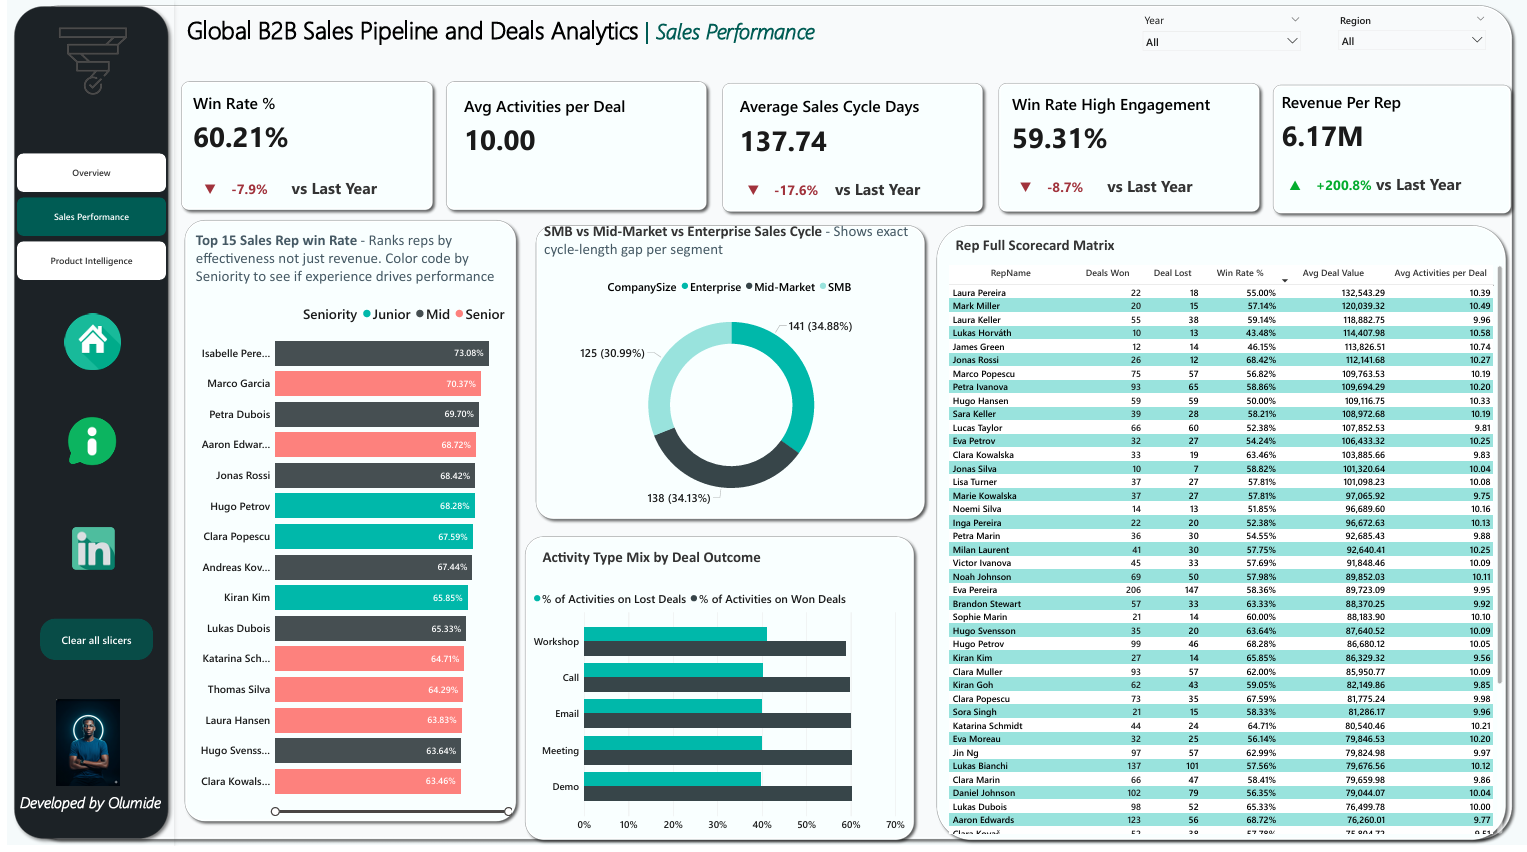

This screenshot's page, from the dashboard's own definition file:
{"tool":"powerbi","page":{"name":"Sales Performance","canvas":[2700,1500],"ordinal":1},"visuals":[{"type":"group","id":"g1","title":"Group 1","box":[0,0,2680,1500],"z":0},{"type":"shape","box":[25.2,0,2654.4,1500],"z":0,"group":"g1"},{"type":"shape","box":[0,0,297.2,1500],"z":1000,"group":"g1"},{"type":"shape","box":[297.5,135,466.6,249],"z":1000,"group":"g2"},{"type":"shape","box":[1638,390.2,1031,1110.5],"z":1000},{"type":"shape","box":[303.9,381.4,609.4,1086.4],"z":2000},{"type":"group","id":"g2","title":"Group 2","box":[297.5,135,2380,255],"z":3000},{"type":"textbox","box":[301.1,19.3,1149,89.1],"z":4000},{"type":"cardVisual","fields":{"Data":["FactDeals.3_Win Rate %"]},"box":[312,156,345,127.5],"z":5000},{"type":"cardVisual","fields":{"Data":["FactDeals.3_Win Rate YoY Icon"]},"box":[332,291,95,77.5],"z":6000},{"type":"shape","box":[767.5,135,483.4,249],"z":7000,"group":"g2"},{"type":"cardVisual","fields":{"Data":["FactDeals.3_Win Rate YoY Display"]},"box":[379.5,291,157.5,77.5],"z":7000},{"type":"shape","box":[1257.6,138,483.4,249],"z":8000,"group":"g2"},{"type":"cardVisual","fields":{"Data":["FactDeals.3_Win Rate Label"]},"box":[487,293.5,260,70],"z":8000},{"type":"slicer","fields":{"Values":["DimDate.Year"]},"box":[2004.2,19.3,301.1,89.1],"z":9000},{"type":"shape","box":[1747.7,138,483.4,249],"z":9000,"group":"g2"},{"type":"slicer","fields":{"Values":["DimCompany.Region"]},"box":[2351,19.3,281.8,89.1],"z":10000},{"type":"shape","box":[2234.4,141,443.1,249],"z":10000,"group":"g2"},{"type":"textbox","box":[329.2,406.2,568.4,124.5],"z":11000},{"type":"cardVisual","fields":{"Data":["FactDeals.7_Avg Activities per Deal"]},"box":[792.5,154.2,436,139.7],"z":12000},{"type":"cardVisual","fields":{"Data":["FactDeals.8_Average Sales Cycle Days"]},"box":[1281.5,161.4,414.3,127.7],"z":13000},{"type":"cardVisual","fields":{"Data":["FactDeals.8_Average Sales Cycle Days YoY Icon"]},"box":[1295.5,293,95,77.5],"z":14000},{"type":"cardVisual","fields":{"Data":["FactDeals.8_Average Sales Cycle Days YoY Display"]},"box":[1343,293,157.5,77.5],"z":15000},{"type":"cardVisual","fields":{"Data":["FactDeals.8_Average Sales Cycle Days Label"]},"box":[1450.5,295.5,260,70],"z":16000},{"type":"cardVisual","fields":{"Data":["FactDeals.9_Win Rate High Engagement"]},"box":[1765.3,157.3,414.3,127.7],"z":17000},{"type":"cardVisual","fields":{"Data":["FactDeals.9_Win Rate High Engagement YoY Icon"]},"box":[1779.3,288.9,95,77.5],"z":18000},{"type":"cardVisual","fields":{"Data":["FactDeals.9_Win Rate High Engagement YoY Display"]},"box":[1826.8,288.9,157.5,77.5],"z":19000},{"type":"cardVisual","fields":{"Data":["FactDeals.9_Win Rate High Engagement Label"]},"box":[1934.3,291.4,260,70],"z":20000},{"type":"cardVisual","fields":{"Data":["FactDeals.10_Revenue Per Rep"]},"box":[2243,153.3,414.3,127.7],"z":21000},{"type":"cardVisual","fields":{"Data":["FactDeals.10_Revenue Per Rep YoY Icon"]},"box":[2257,284.9,95,77.5],"z":22000},{"type":"cardVisual","fields":{"Data":["FactDeals.10_Revenue Per Rep YoY Display"]},"box":[2304.5,284.9,157.5,77.5],"z":23000},{"type":"cardVisual","fields":{"Data":["FactDeals.10_Revenue Per Rep YoY Label"]},"box":[2411.3,286.7,245.7,69.9],"z":24000},{"type":"shape","box":[927.4,390.2,710.6,542],"z":25000},{"type":"shape","box":[908.1,941.9,710.6,558.9],"z":26000},{"type":"barChart","fields":{"Category":["DimSalesRep.RepName"],"Y":["FactDeals.3_Win Rate %"],"Series":["DimSalesRep.Seniority"]},"box":[325.6,530.8,568.5,920.2],"z":27000},{"type":"donutChart","fields":{"Category":["DimCompany.CompanySize"],"Y":["FactDeals.8_Average Sales Cycle Days"]},"box":[946.7,484.2,674.5,433.6],"z":28000},{"type":"textbox","box":[946.7,390.2,674.5,93.9],"z":29000},{"type":"pivotTable","fields":{"Rows":["DimSalesRep.RepName"],"Values":["FactDeals.Deals Won","FactDeals.Deal Lost","FactDeals.3_Win Rate %","FactDeals.5_Avg Deal Value","FactDeals.7_Avg Activities per Deal"]},"box":[1666.9,467.3,990,1016.5],"z":30000},{"type":"clusteredBarChart","fields":{"Category":["FactActivities.ActivityType"],"Y":["FactDeals.% of Activities on Lost Deals","FactDeals.% of Activities on Won Deals"]},"box":[927.4,1038.2,669.7,445.6],"z":31000},{"type":"textbox","box":[944.3,968.4,652.8,45.8],"z":32000},{"type":"textbox","box":[1676.6,414.3,956.3,53],"z":33000},{"type":"pageNavigator","box":[17.2,273.5,263.6,224.2],"z":34000},{"type":"textbox","box":[16.9,1399.5,265,55.4],"z":35000},{"type":"image","box":[24.1,1235.7,238.5,163.8],"z":36000},{"type":"image","box":[91.5,729.9,115.6,106],"z":37000},{"type":"image","box":[96.1,549.4,110.9,115.8],"z":38000},{"type":"image","box":[71.5,39.4,160.2,140.4],"z":39000},{"type":"image","box":[93.9,917.8,115.6,110.8],"z":40000},{"type":"actionButton","box":[57.8,1098.4,199.9,72.3],"z":42000}]}

Visuals, with their boxes on the page's 2700x1500 design canvas (x1, y1, x2, y2). These are canvas units, not pixel positions in the 1527x852 screenshot, which may show the page scaled, cropped or inside an application window:
"Group 1" group: detection(0, 0, 2680, 1500)
shape: detection(25, 0, 2680, 1500)
shape: detection(0, 0, 297, 1500)
shape: detection(298, 135, 764, 384)
shape: detection(1638, 390, 2669, 1501)
shape: detection(304, 381, 913, 1468)
"Group 2" group: detection(298, 135, 2678, 390)
textbox: detection(301, 19, 1450, 108)
cardVisual - FactDeals.3_Win Rate %: detection(312, 156, 657, 284)
cardVisual - FactDeals.3_Win Rate YoY Icon: detection(332, 291, 427, 368)
shape: detection(768, 135, 1251, 384)
cardVisual - FactDeals.3_Win Rate YoY Display: detection(380, 291, 537, 368)
shape: detection(1258, 138, 1741, 387)
cardVisual - FactDeals.3_Win Rate Label: detection(487, 294, 747, 364)
slicer - DimDate.Year: detection(2004, 19, 2305, 108)
shape: detection(1748, 138, 2231, 387)
slicer - DimCompany.Region: detection(2351, 19, 2633, 108)
shape: detection(2234, 141, 2678, 390)
textbox: detection(329, 406, 898, 531)
cardVisual - FactDeals.7_Avg Activities per Deal: detection(792, 154, 1228, 294)
cardVisual - FactDeals.8_Average Sales Cycle Days: detection(1282, 161, 1696, 289)
cardVisual - FactDeals.8_Average Sales Cycle Days YoY Icon: detection(1296, 293, 1390, 370)
cardVisual - FactDeals.8_Average Sales Cycle Days YoY Display: detection(1343, 293, 1500, 370)
cardVisual - FactDeals.8_Average Sales Cycle Days Label: detection(1450, 296, 1710, 366)
cardVisual - FactDeals.9_Win Rate High Engagement: detection(1765, 157, 2180, 285)
cardVisual - FactDeals.9_Win Rate High Engagement YoY Icon: detection(1779, 289, 1874, 366)
cardVisual - FactDeals.9_Win Rate High Engagement YoY Display: detection(1827, 289, 1984, 366)
cardVisual - FactDeals.9_Win Rate High Engagement Label: detection(1934, 291, 2194, 361)
cardVisual - FactDeals.10_Revenue Per Rep: detection(2243, 153, 2657, 281)
cardVisual - FactDeals.10_Revenue Per Rep YoY Icon: detection(2257, 285, 2352, 362)
cardVisual - FactDeals.10_Revenue Per Rep YoY Display: detection(2304, 285, 2462, 362)
cardVisual - FactDeals.10_Revenue Per Rep YoY Label: detection(2411, 287, 2657, 357)
shape: detection(927, 390, 1638, 932)
shape: detection(908, 942, 1619, 1501)
barChart - DimSalesRep.RepName x FactDeals.3_Win Rate %: detection(326, 531, 894, 1451)
donutChart - DimCompany.CompanySize x FactDeals.8_Average Sales Cycle Days: detection(947, 484, 1621, 918)
textbox: detection(947, 390, 1621, 484)
pivotTable - DimSalesRep.RepName x FactDeals.Deals Won: detection(1667, 467, 2657, 1484)
clusteredBarChart - FactActivities.ActivityType x FactDeals.% of Activities on Lost Deals: detection(927, 1038, 1597, 1484)
textbox: detection(944, 968, 1597, 1014)
textbox: detection(1677, 414, 2633, 467)
pageNavigator: detection(17, 274, 281, 498)
textbox: detection(17, 1400, 282, 1455)
image: detection(24, 1236, 263, 1400)
image: detection(92, 730, 207, 836)
image: detection(96, 549, 207, 665)
image: detection(72, 39, 232, 180)
image: detection(94, 918, 210, 1029)
actionButton: detection(58, 1098, 258, 1171)
